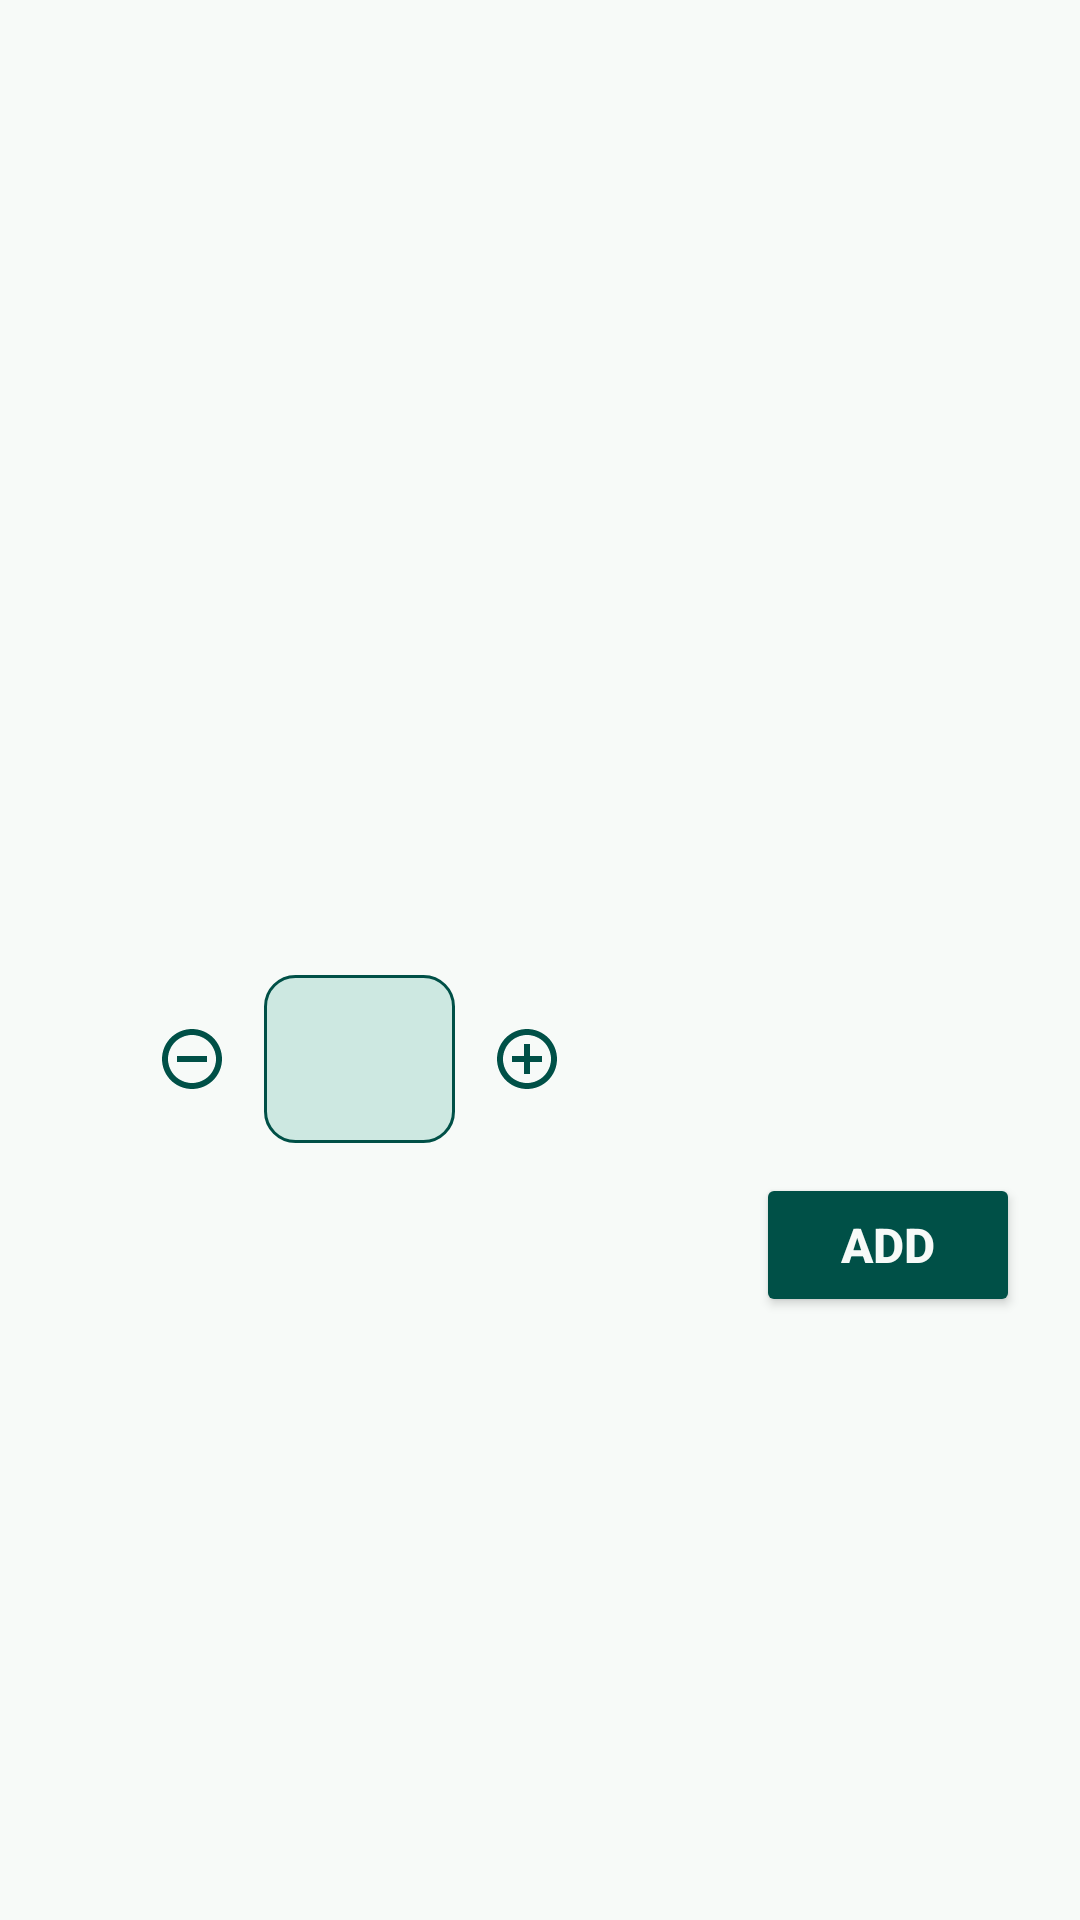

Locate icon controls on the screen. Image size 1080w x 1920h, boxes as Rect(x1, y1, x2, y2).
quantity add: Rect(497, 1029, 557, 1089)
quantity minus: Rect(162, 1029, 222, 1089)
